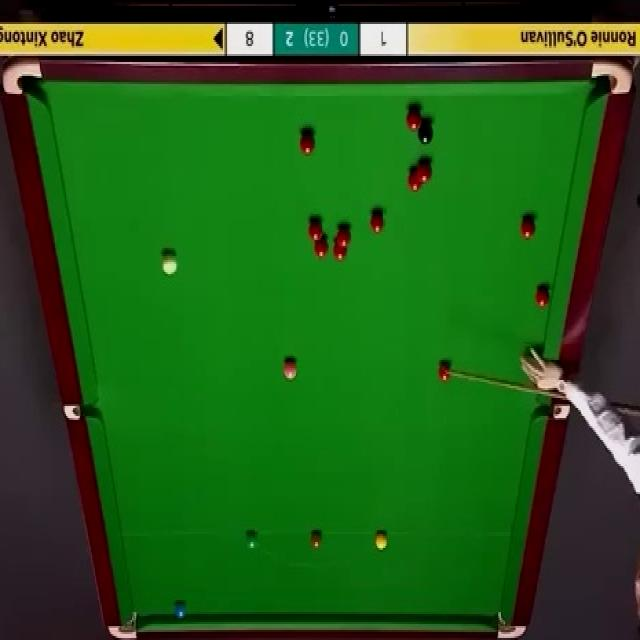black-ball: (418, 121, 434, 144)
blue-ball: (174, 598, 186, 620)
brown-ball: (310, 531, 323, 550)
green-ball: (246, 531, 259, 550)
pink-ball: (282, 356, 298, 378)
red-ball: (307, 216, 323, 243), (414, 158, 432, 182), (519, 216, 535, 242), (300, 132, 316, 157), (535, 282, 550, 307), (407, 109, 422, 132), (371, 212, 385, 236), (407, 170, 423, 191), (335, 225, 350, 246), (333, 241, 348, 262), (314, 237, 328, 259), (438, 362, 452, 380)
white-ball: (162, 250, 176, 276)
yellow-ball: (375, 531, 388, 550)
